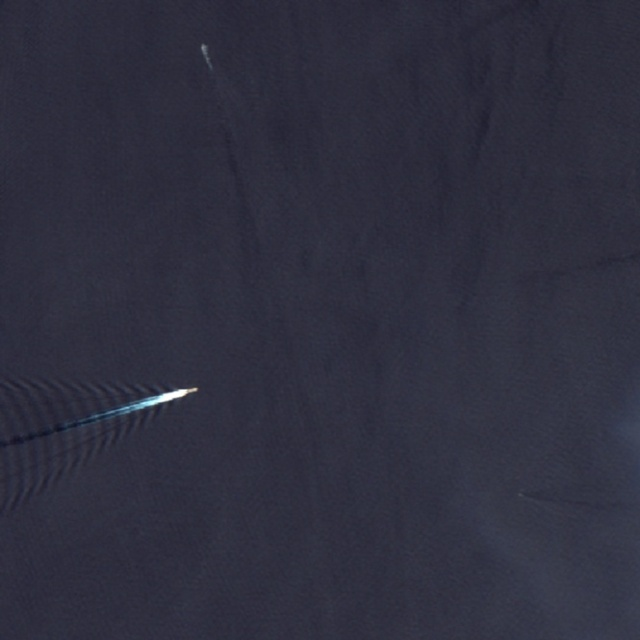wake: (32, 339, 220, 478)
